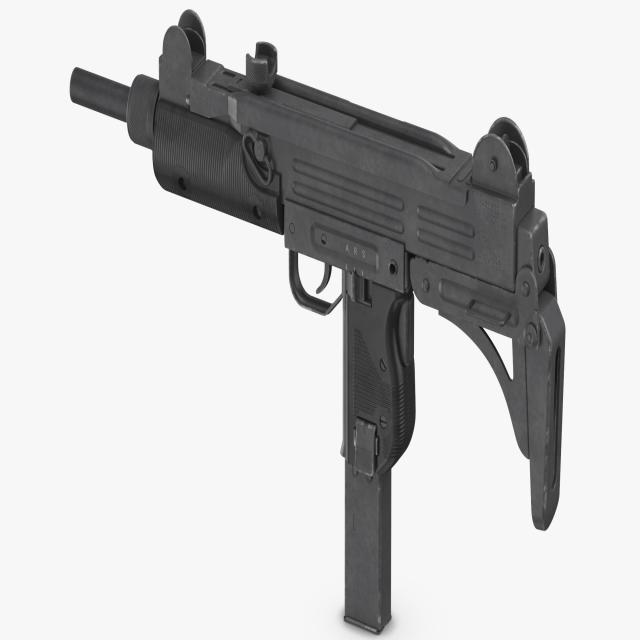Weapon: (70, 5, 568, 640)
